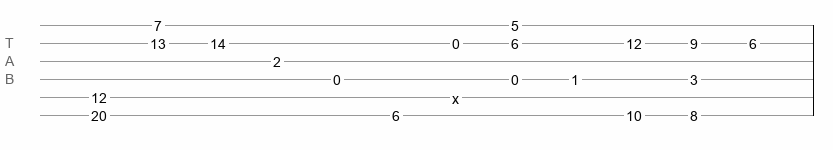0: (333, 72, 341, 82), (452, 36, 460, 46), (511, 72, 519, 82)
1: (571, 72, 579, 82)
10: (626, 108, 642, 118)
12: (91, 90, 107, 100), (626, 36, 642, 46)
13: (150, 36, 166, 46)
14: (210, 36, 226, 46)
2: (273, 54, 281, 64)
20: (91, 108, 107, 118)
3: (690, 72, 698, 82)
5: (511, 18, 519, 28)
6: (392, 108, 400, 118), (511, 36, 519, 46), (749, 36, 757, 46)
7: (154, 18, 162, 28)
8: (690, 108, 698, 118)
9: (690, 36, 698, 46)
x: (452, 91, 459, 99)
